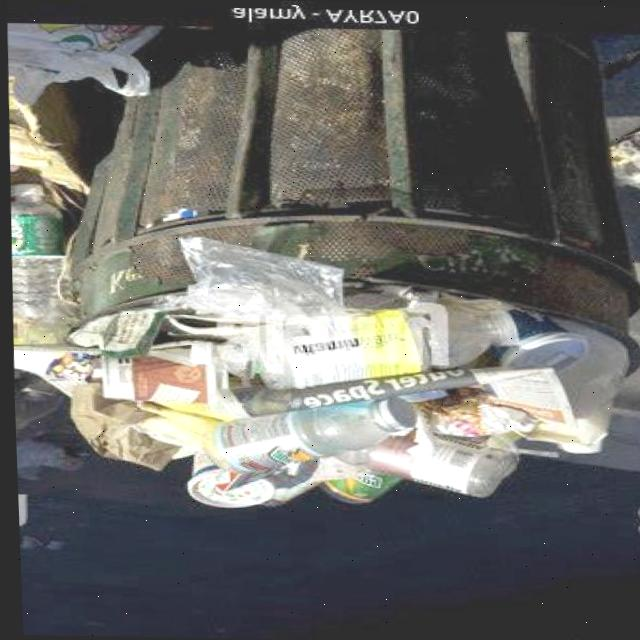Garbage: (65, 252, 635, 507)
Plastic_bottle: (262, 294, 512, 387), (201, 398, 411, 469), (333, 432, 512, 495)
